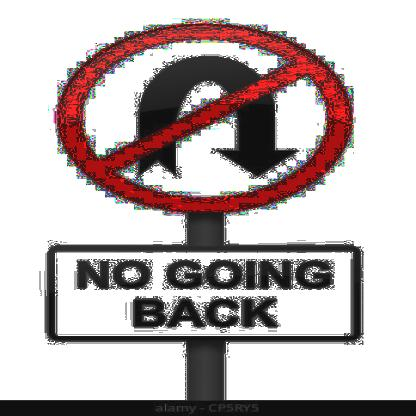No U-turn: (54, 17, 365, 216)
